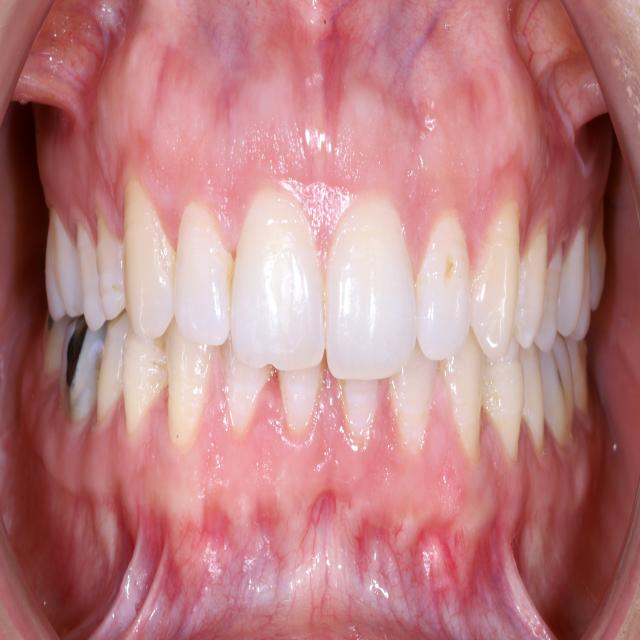tooth: (232, 202, 328, 372), (329, 205, 418, 383), (178, 212, 229, 354), (121, 209, 178, 335), (478, 228, 526, 359), (422, 238, 468, 356), (485, 364, 529, 467), (446, 358, 490, 452), (47, 218, 81, 325), (124, 339, 160, 430), (170, 358, 203, 440), (96, 218, 125, 310), (224, 352, 258, 430), (74, 225, 100, 319), (404, 361, 433, 435), (286, 378, 316, 430), (347, 386, 372, 435)
